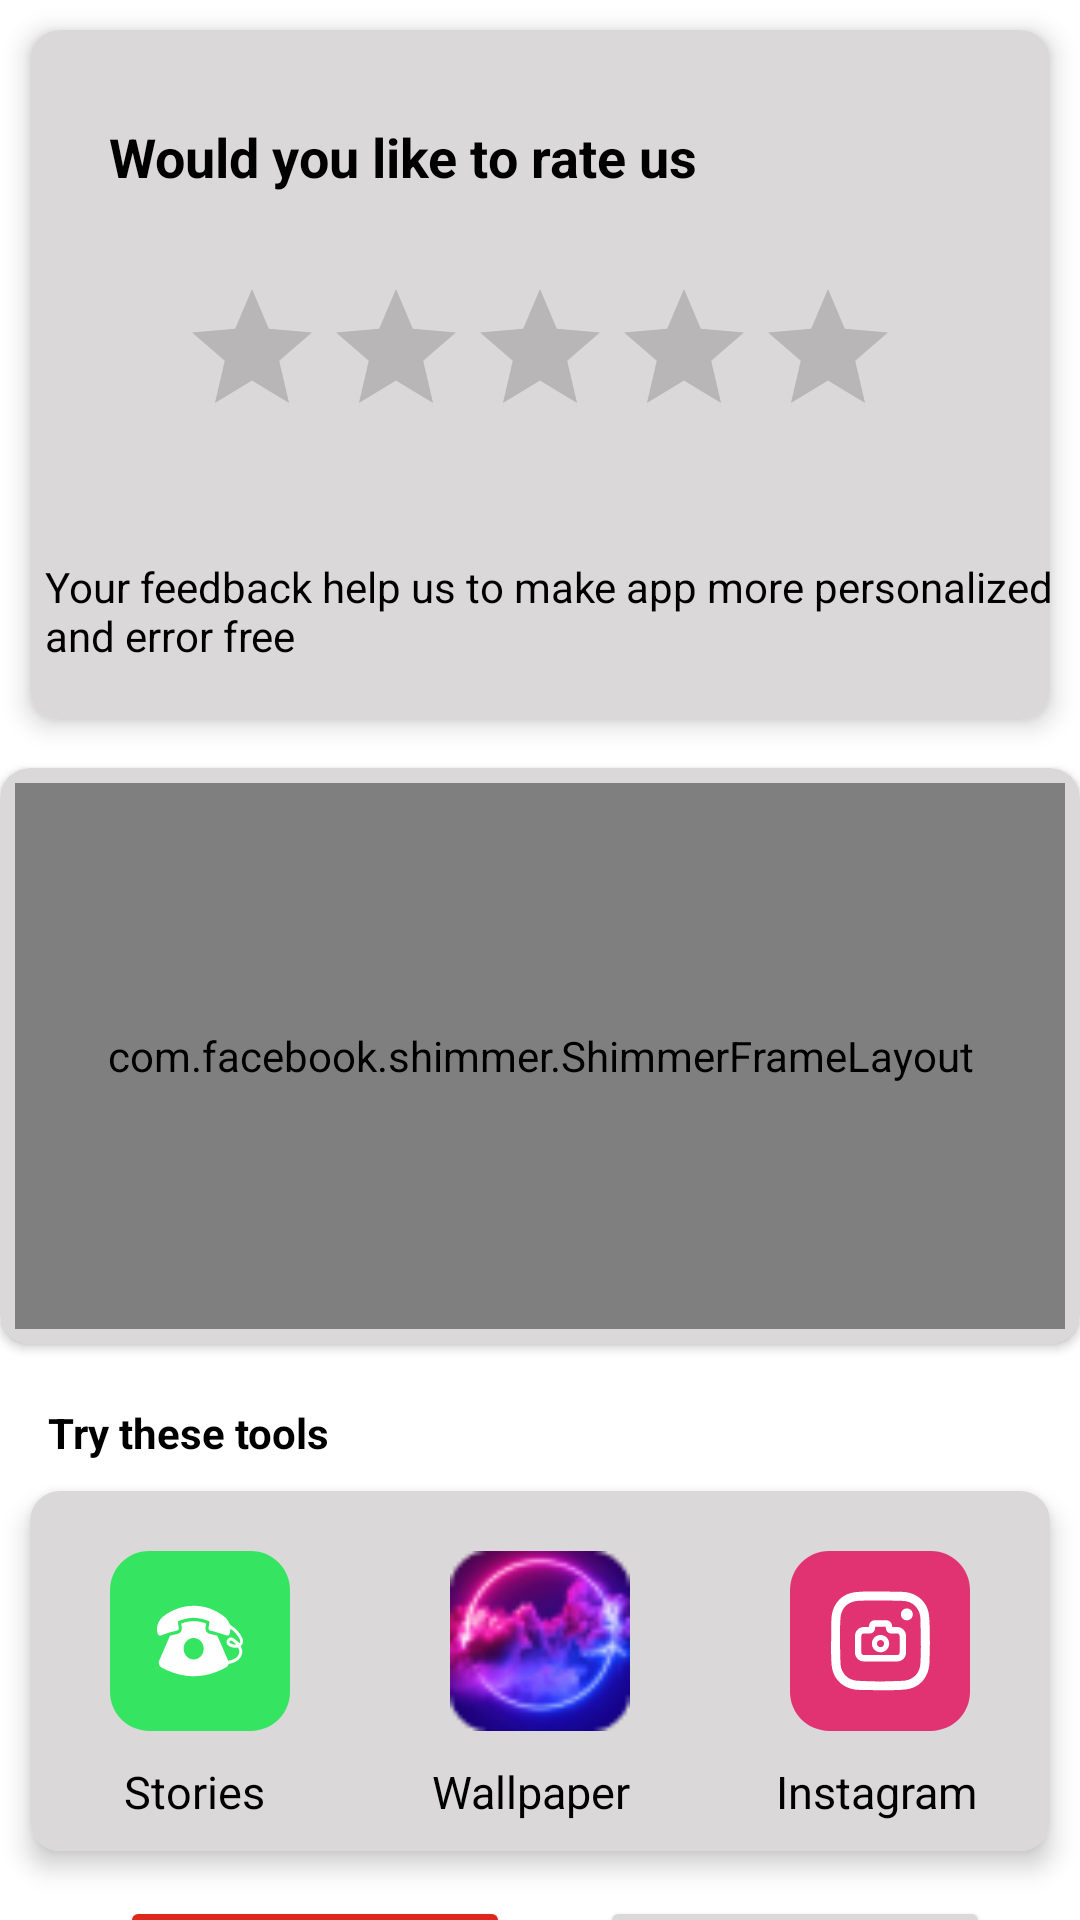

Icons on this 1080px×1920px Android screen, each with the point to tap as point (x, y):
whatsappgroup: point (200, 1641)
